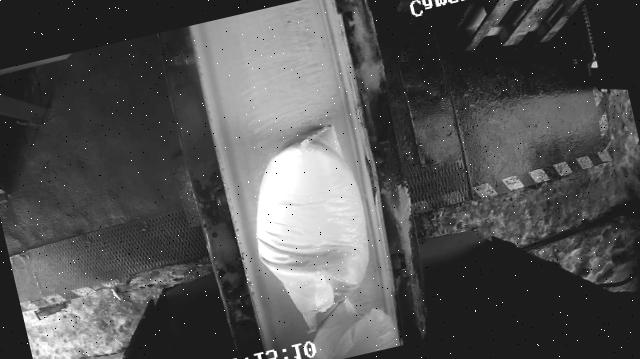bag: (236, 122, 387, 338), (292, 291, 399, 359)
